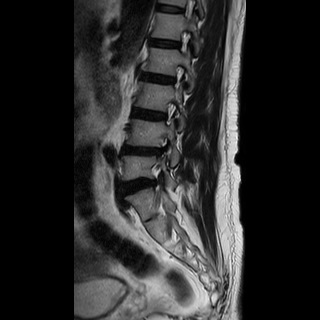LFS0: (166, 60, 191, 92), (172, 25, 195, 59), (155, 96, 179, 128)
